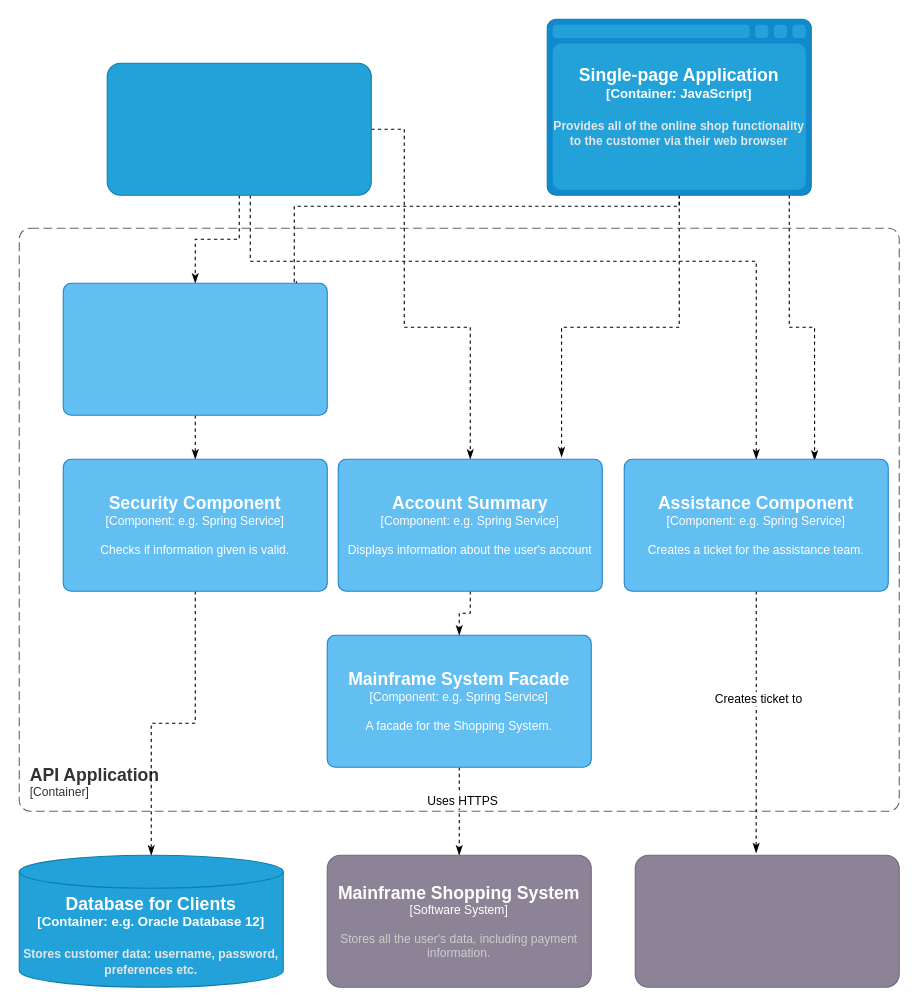
Some shapes in this 919 by 1007 pixel diagram are drawn without their labels. The shapes that lost their labels are listed below. From the top down, each one's centre as x and y in pixels, then its label:
At pixel 238 128: "Web Application [Container: Java] Displays the products and their details.".
At pixel 194 348: "Sign In controller [Component: e.g. Spring Service] Allows users to sign in.".
At pixel 766 920: "Assistance System [Software System] Used to help with the user's problems.".
